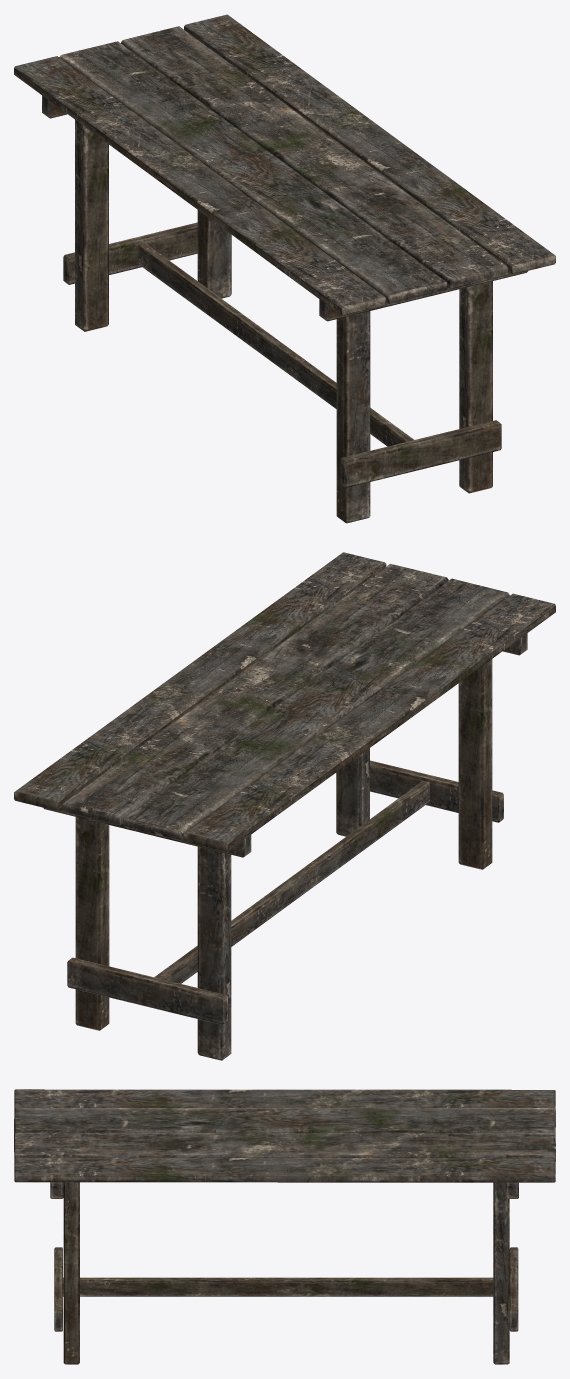
File: Table.fbx
3 renders of one model, top to bottom at view 1: azimuth 30°, elevation 25°; view 2: azimuth 150°, elevation 25°; view 3: azimuth 270°, elevation 25°, orthographic. The views are drawn at different scales.
Visible parts, largest first — view 1: Table_LOD0; view 2: Table_LOD0; view 3: Table_LOD0.
Part boxes in pixels (box(x1,y1,x2,y2)): Table_LOD0: box(14, 14, 555, 523); Table_LOD0: box(14, 552, 555, 1060); Table_LOD0: box(14, 1089, 555, 1364).
Size of what is drawn, in the model's own units: 71.76 by 78.7 by 190.
